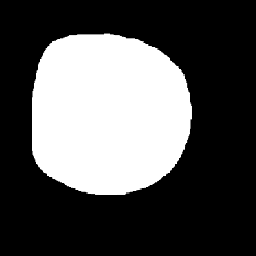mass: (33, 41, 195, 173)
